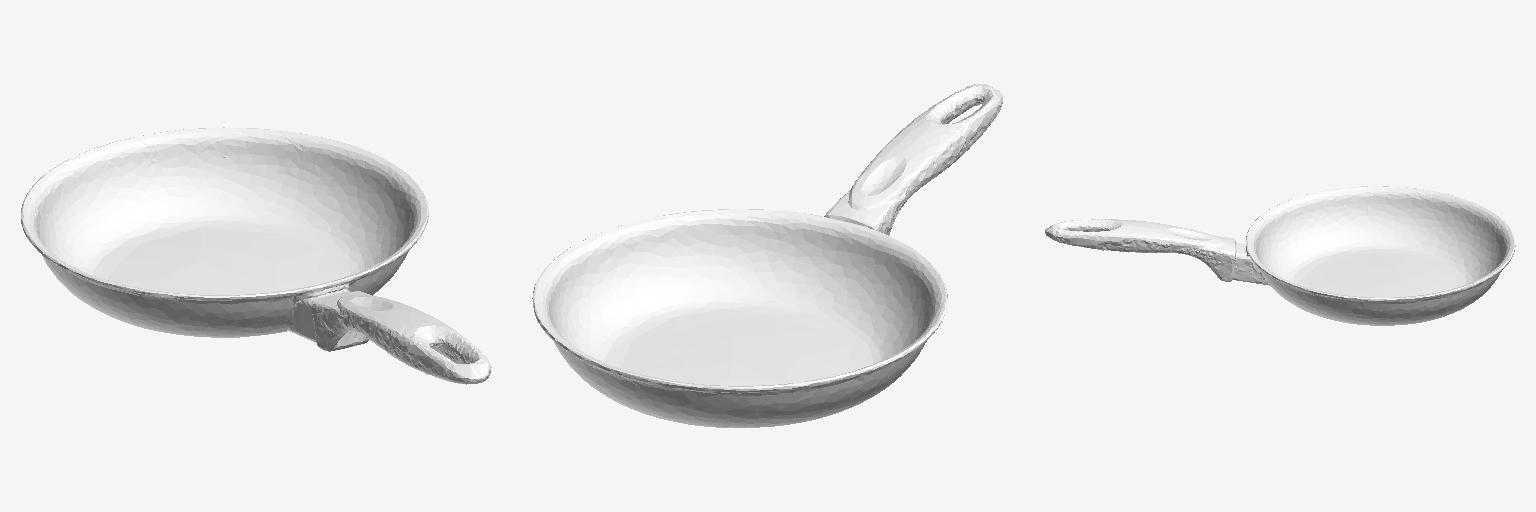
URDF robot description (model):
<?xml version="1.0" ?>
    <robot name="model">
    <link name="base">
        <inertial>
            <origin rpy="0 0 0" xyz="0 0 0"/>
            <mass value="1.0"/>
            <inertia ixx="1" ixy="0" ixz="0" iyy="1" iyz="0" izz="1"/>
        </inertial>
    <visual>
        <origin rpy="0 0 0" xyz="0 0 0"/>
        <geometry>
        <mesh filename="./meshes/model.obj" scale="1 1 1"/>
        </geometry>
        <material name="white">
        <color rgba="1 1 1 1"/>
        </material>
    </visual>
    <collision>
        <origin rpy="0 0 0" xyz="0 0 0"/>
        <geometry>
        <mesh filename="./meshes/model_vhacd.obj" scale="1 1 1"/>
        </geometry>
    </collision>
    </link>
    <link name="grasp">
        <inertial>
        <origin rpy="0 0 0" xyz="0 0 0"/>
        <mass value="0.0"/>
        <inertia ixx="1" ixy="0" ixz="0" iyy="1" iyz="0" izz="1"/>
        </inertial>
    </link>
    <joint name="base__grasp" type="fixed">
        <origin xyz="0.0 -0.12 0.0" rpy="0.0 0.0 0.0"/>
        <parent link="base"/>
        <child link="grasp"/>
    </joint>
    </robot>

--- Facts derived from the render (not from the file) ---
3 views of the same robot in one strip: view 1: azimuth 30°, elevation 25°; view 2: azimuth 150°, elevation 25°; view 3: azimuth 270°, elevation 25° (orthographic).
Model model with 2 links and 1 joints (1 fixed), rooted at base, posed every joint at zero.
Links seen in each view (by area): view 1: base; view 2: base; view 3: base.
Link boxes in pixels (bbox=[...]): base: bbox=[21, 127, 491, 384]; base: bbox=[532, 84, 1002, 427]; base: bbox=[1045, 186, 1515, 325].
Bounding box of the posed robot: 0.2044 × 0.3559 × 0.055 m (x, y, z).
1 mesh visuals loaded from 1 distinct referenced files (1 OBJ).